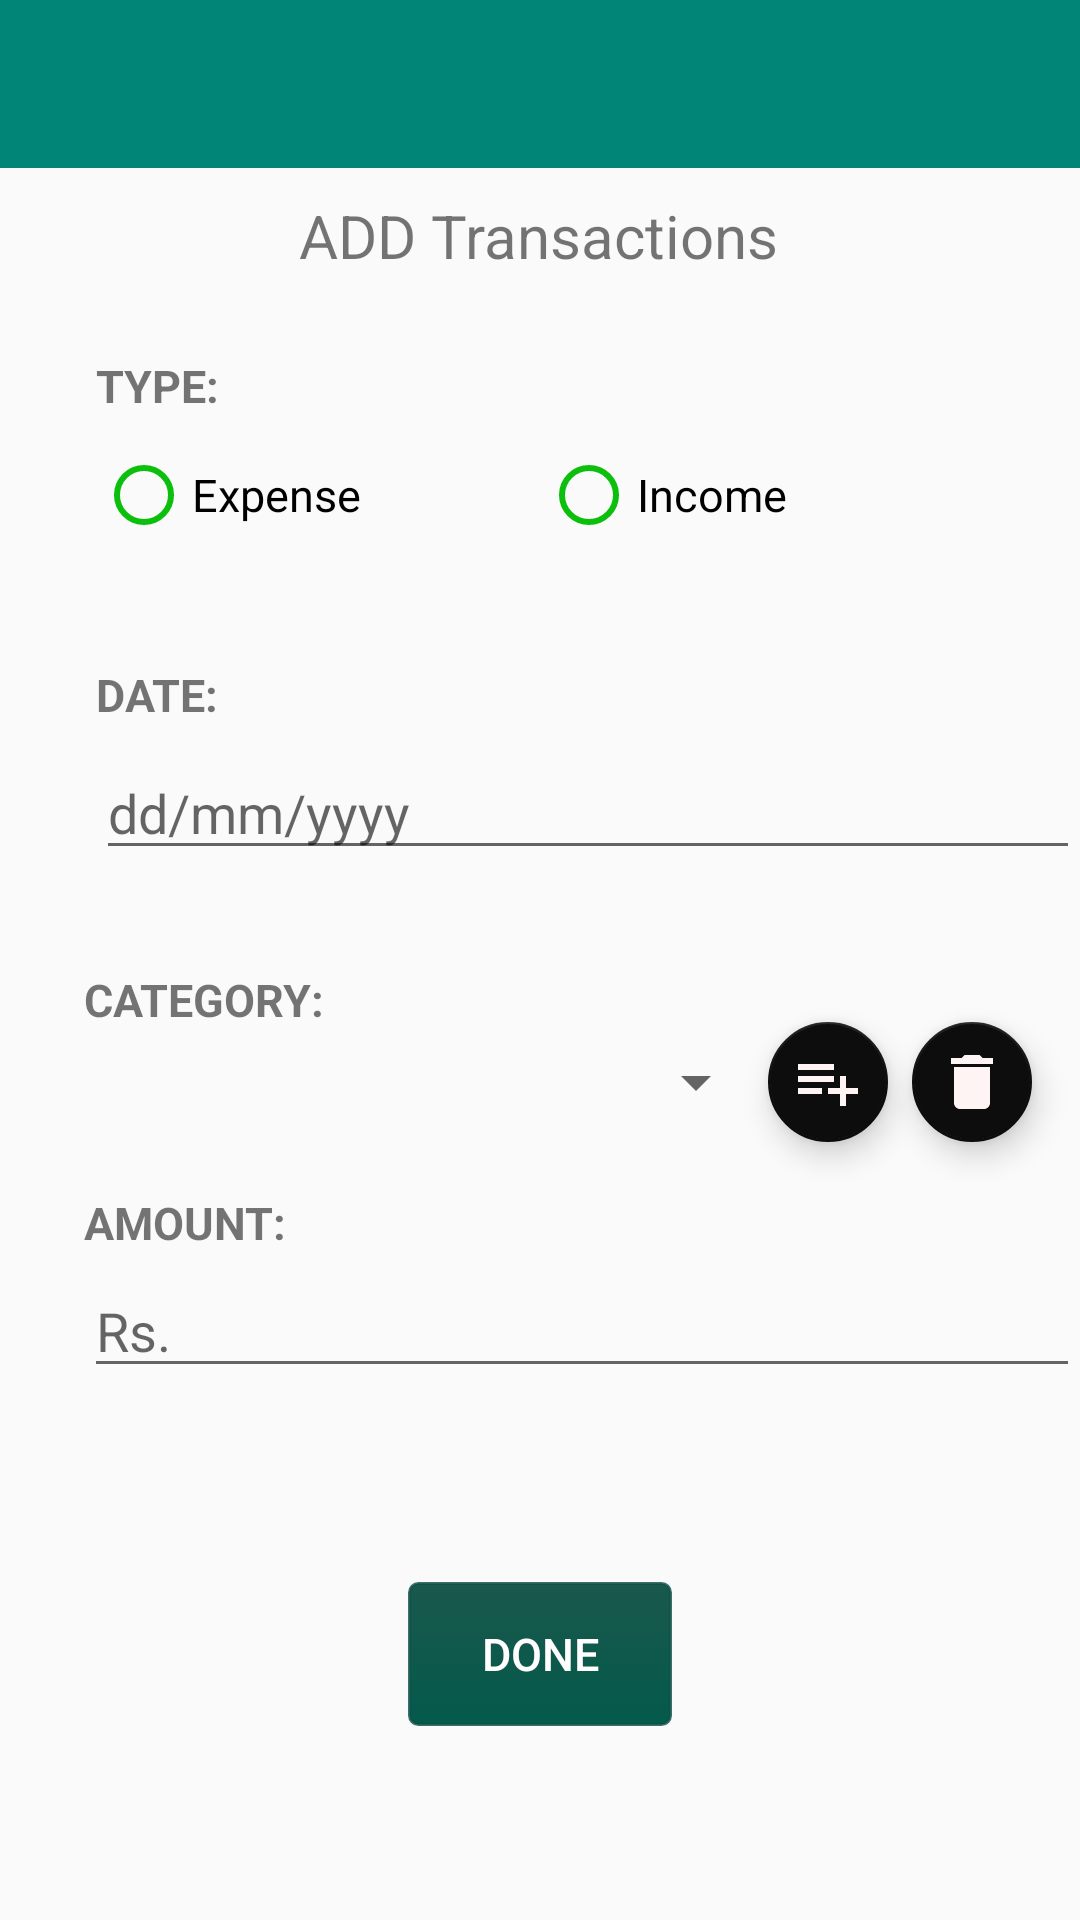

Screen size 1080x1920. Icon name, then its center in pixels as (x,y):
create category: (828,1082)
delete: (972,1082)
